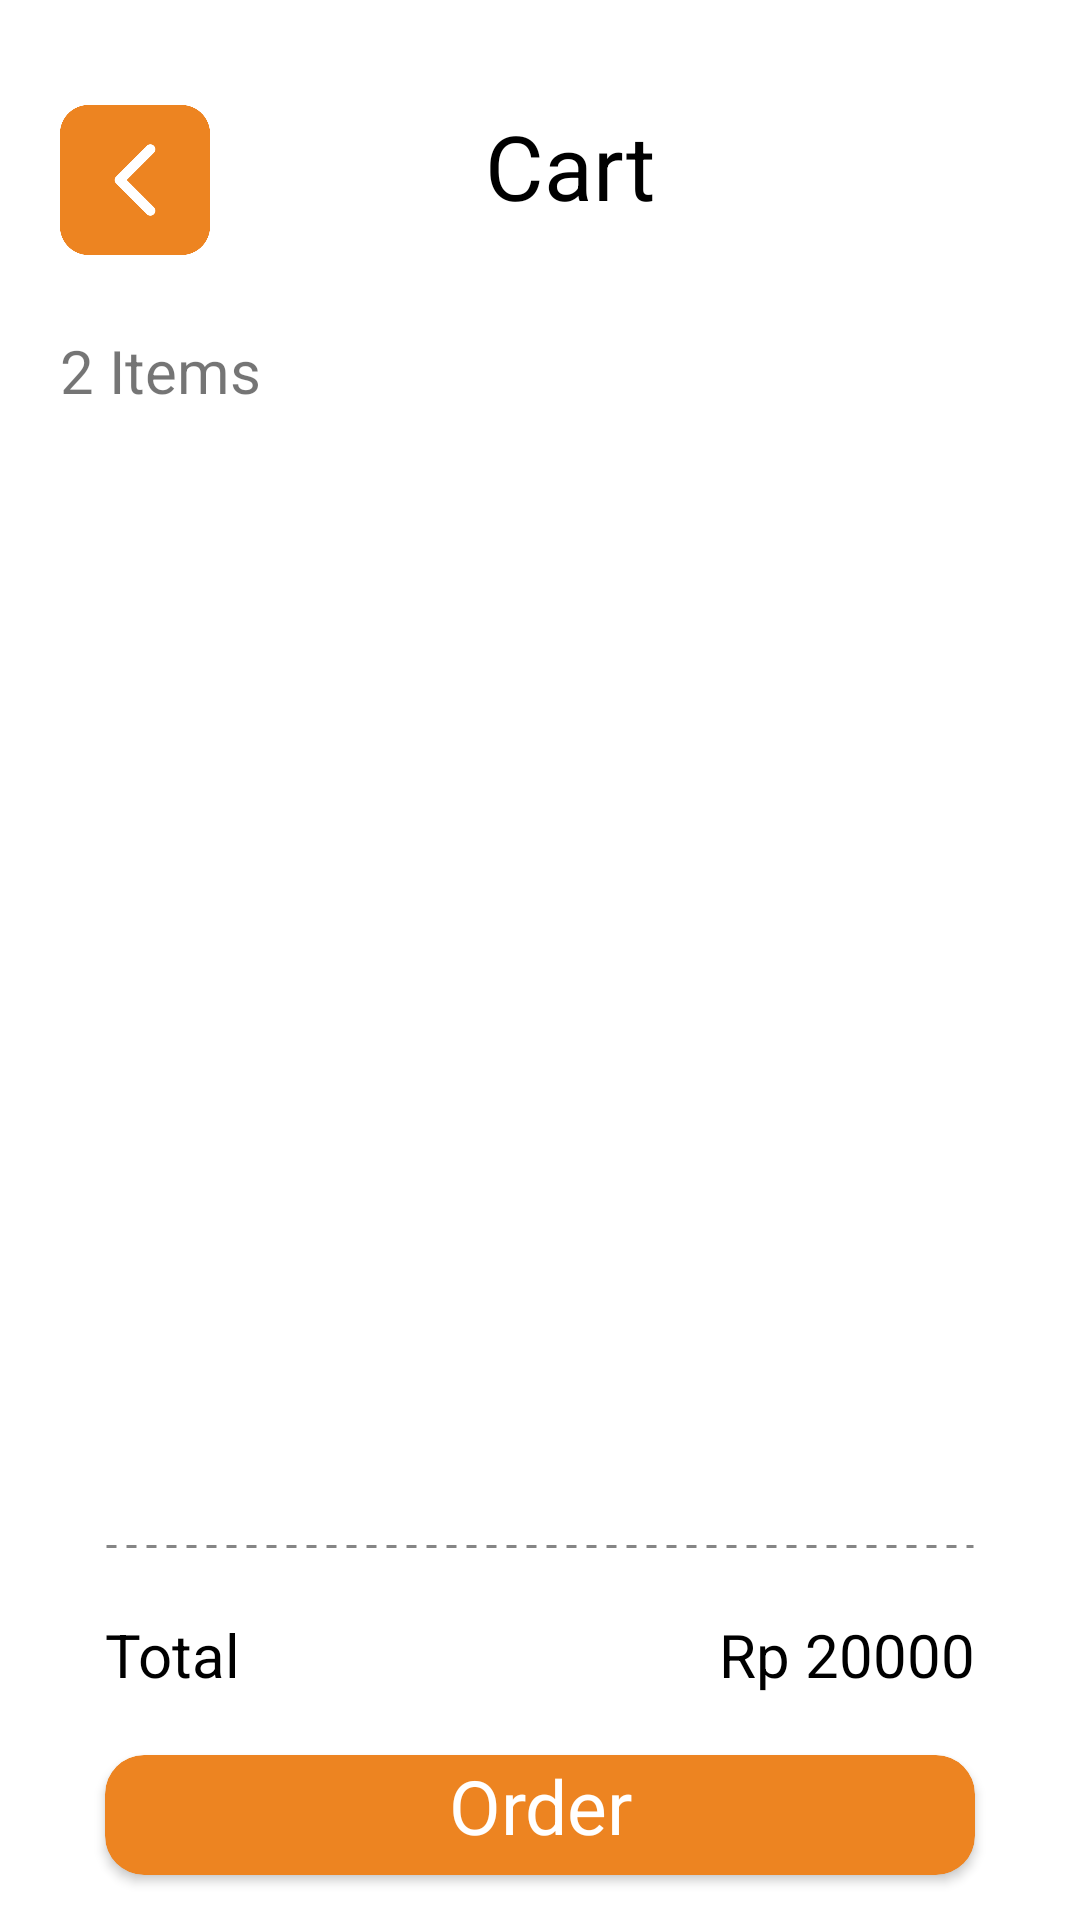

Point at icon controls on the screen. Image size 1080px×1920px, points as point (x, y).
back: point (135, 180)
